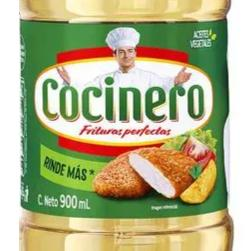brand: (35, 65, 212, 128)
net_weight: (58, 193, 92, 213)
